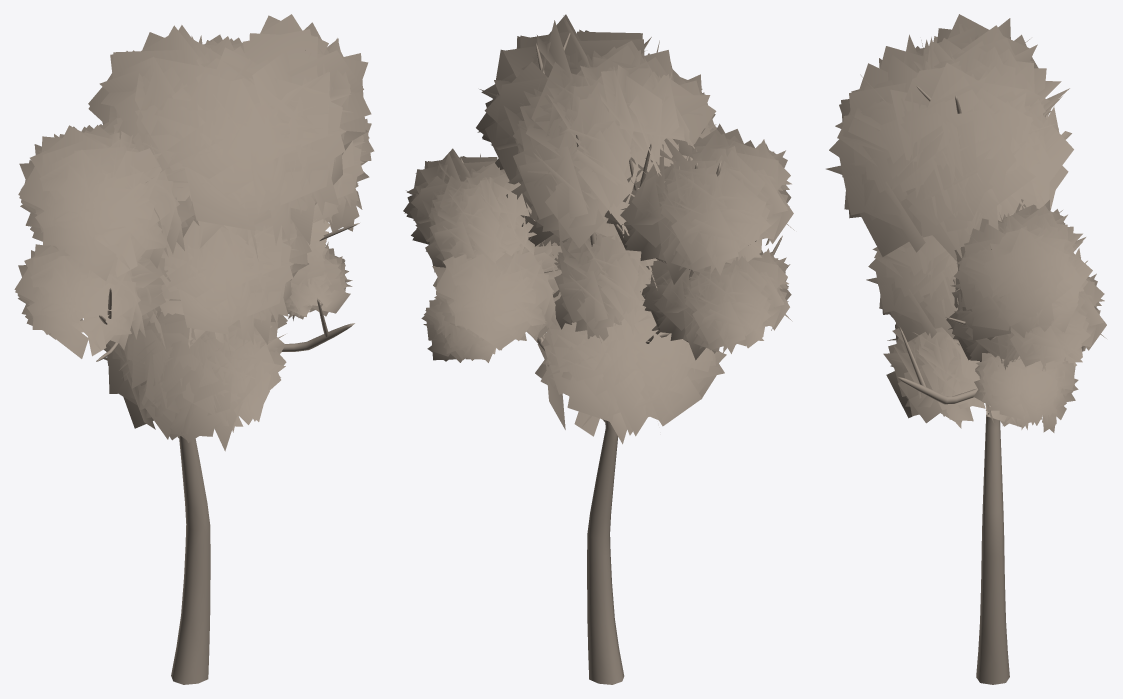
The model's file is BirchTree_3.glb.
3 renders of one model, left to right at view 1: azimuth 30°, elevation 25°; view 2: azimuth 150°, elevation 25°; view 3: azimuth 270°, elevation 25°, orthographic. The views are drawn at different scales.
Visible parts, largest first — view 1: BirchTree_Leaves, BirchTree_Bark; view 2: BirchTree_Leaves, BirchTree_Bark; view 3: BirchTree_Leaves, BirchTree_Bark.
Part boxes in pixels (bbox=[...]): BirchTree_Leaves: bbox=[14, 14, 374, 451]; BirchTree_Bark: bbox=[96, 49, 359, 684]; BirchTree_Leaves: bbox=[403, 14, 794, 444]; BirchTree_Bark: bbox=[460, 32, 790, 684]; BirchTree_Leaves: bbox=[826, 14, 1106, 432]; BirchTree_Bark: bbox=[897, 86, 1009, 684].
Bounding box in the file's own units: 3.43 × 5.75 × 2.27.
